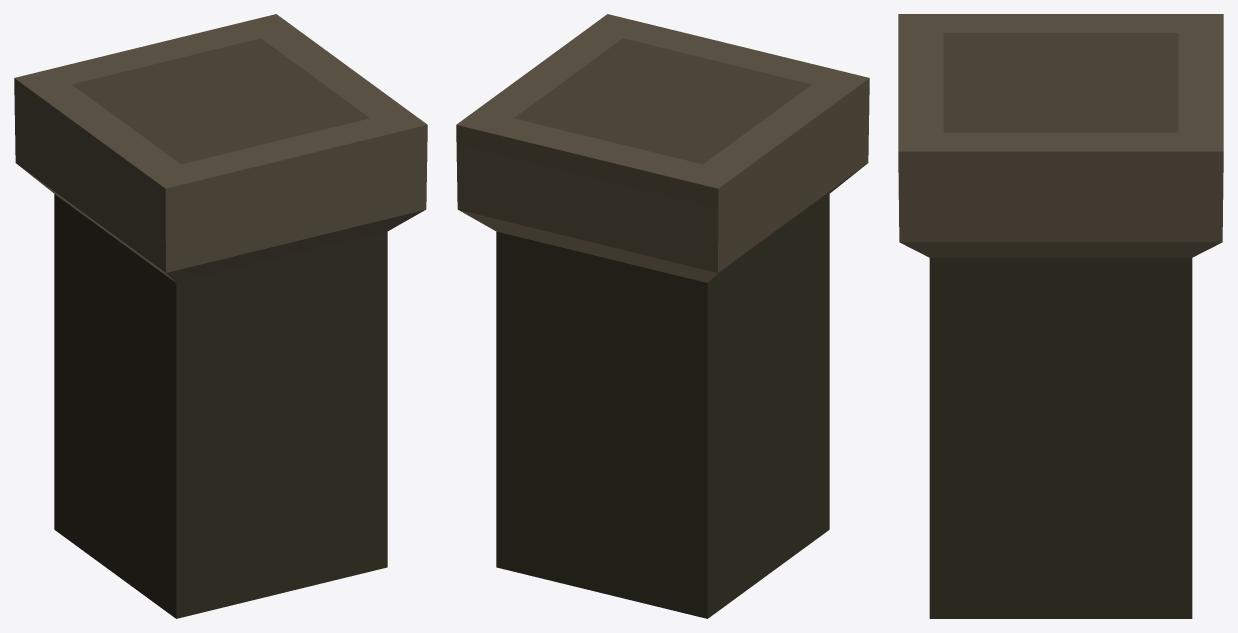
File: Chimney_2_D_1.fbx
The picture shows the model from 3 angles, left to right: view 1: azimuth 30°, elevation 25°; view 2: azimuth 150°, elevation 25°; view 3: azimuth 270°, elevation 25°; orthographic projection. The views are drawn at different scales.
Visible parts, largest first — view 1: Chimney_2_D_1; view 2: Chimney_2_D_1; view 3: Chimney_2_D_1.
Boxes of the visible parts, x1=… form: Chimney_2_D_1: x1=14, y1=14, x2=427, y2=618; Chimney_2_D_1: x1=456, y1=14, x2=869, y2=618; Chimney_2_D_1: x1=898, y1=14, x2=1223, y2=618.
Size of the model in its own units: 63.29 by 103 by 63.29.
